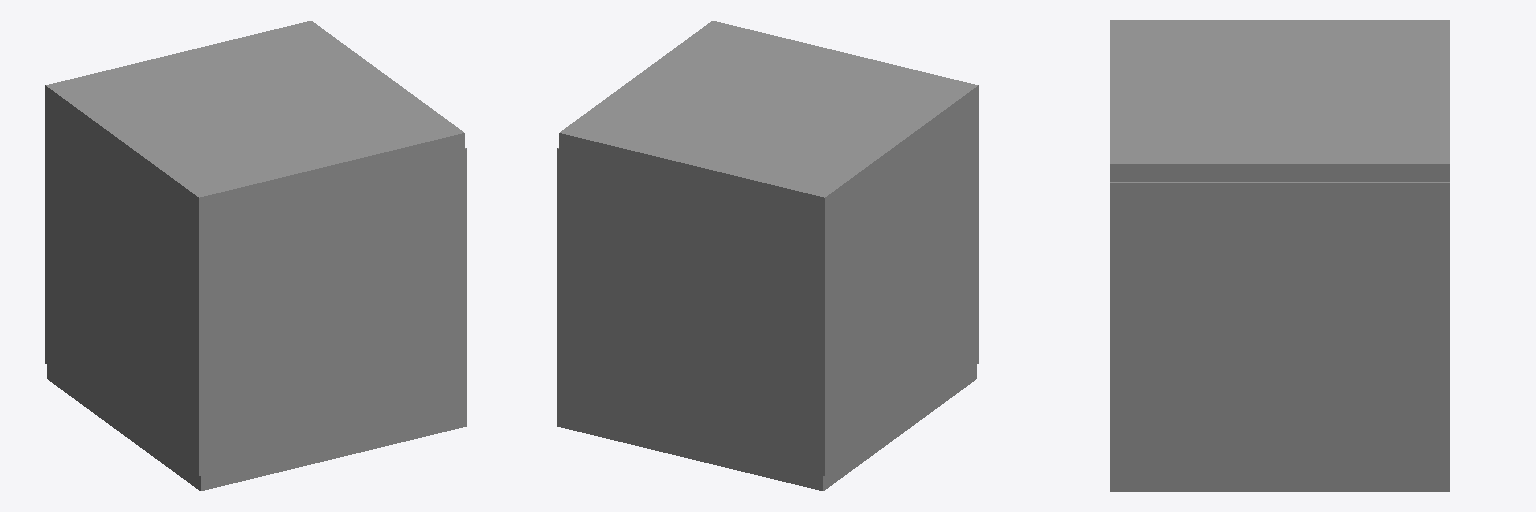
robot.urdf — magician:
<robot name="magician">

    <!-- Defining the colors used in this robot -->
    <material name="Black">
        <color rgba="0 0 0 1"/>
    </material>

    <material name="White">
        <color rgba="1 1 1 1"/>
    </material>

    <material name="Grey">
        <color rgba="0.9 0.9 0.9 1"/>
    </material>

    <!--  -->
    <link name="base_link">
        <visual>
            <origin xyz="0 0 0" rpy="0 0 0"/>
            <geometry>
                <mesh filename="package://magician/meshes/base_link.STL"/>
            </geometry>
            <material name="White"/>
        </visual>
        <collision>
            <origin xyz="0 0 0" rpy="0 0 0"/>
            <geometry>
                <mesh filename="package://magician/meshes/base_link.STL"/>
            </geometry>
        </collision>
    </link>

    <joint name="joint_1" type ="revolute">
        <origin xyz="0 0 0.024" rpy="0 0 0"/>
        <parent link="base_link"/>
        <child link="link_1"/>
        <axis xyz="0 0 1"/>
        <limit effort="150.0" lower="-3.14159265" upper="3.14159265" velocity="3.15"/>
    </joint>

    <link name="link_1">
        <visual>
            <origin xyz="0 0 0" rpy="0 0 0"/>
            <geometry>
                <mesh filename="package://magician/meshes/link_1.dae"/>
            </geometry>
            <!--material name="White"/-->
        </visual>
        <collision>
            <origin xyz="0 0 0" rpy="0 0 0"/>
            <geometry>
                <mesh filename="package://magician/meshes/link_1.STL"/>
            </geometry>
        </collision>
    </link>

    
    <joint name="joint_2" type="revolute">
        <origin xyz="-0.01175 0 0.114" rpy="1.570796325 0 -1.570796325"/>
        <parent link="link_1"/>
        <child link="link_2"/>
        <axis xyz="0 0 1"/>
        <limit effort="150.0" lower="0" upper="1.570796325" velocity="3.15"/>
    </joint>

    <link name="link_2">
        <visual>
            <origin xyz="0 0 0" rpy="0 0 0"/>
            <geometry>
                <mesh filename="package://magician/meshes/link_2.dae"/>
            </geometry>
            <!--material name="Black"/-->
        </visual>
        <collision>
            <origin xyz="0 0 0" rpy="0 0 0"/>
            <geometry>
                <mesh filename="package://magician/meshes/link_2.STL"/>
            </geometry>
        </collision>
    </link>
    
    <!--
    <joint name="joint_3" type ="revolute">
        <origin xyz="0.00475 0.00001 0.114" rpy="1.570796325 0 1.570796325"/>
        <parent link="link_1"/>
        <child link="link_3"/>
        <axis xyz="0 0 1"/>
        <limit effort="150.0" lower="-3.14159265" upper="3.14159265" velocity="3.15"/>
    </joint>
    -->

    <!--
    <link name="link_3">
        <visual>
            <origin xyz="0 0 0" rpy="0 0 0"/>
            <geometry>
                <mesh filename="package://magician/meshes/link_3.STL"/>
            </geometry>
        </visual>
        <collision>
            <origin xyz="0 0 0" rpy="0 0 0"/>
            <geometry>
                <mesh filename="package://magician/meshes/link_3.STL"/>
            </geometry>
        </collision>
    </link>
    -->
    
    <!--
    <joint name="joint_4" type ="revolute">
        <origin xyz="0.0013 0.042980 0.00275" rpy="0 -1.570796325 0"/>
        <parent link="link_3"/>
        <child link="link_4"/>
        <axis xyz="1 0 0"/>
        <limit effort="150.0" lower="-3.14159265" upper="3.14159265" velocity="3.15"/>
    </joint>
    -->

    <!--
    <link name="link_4">
        <visual>
            <origin xyz="0 0 0" rpy="0 0 0"/>
            <geometry>
                <mesh filename="package://magician/meshes/link_4.STL"/>
            </geometry>
        </visual>
        <collision>
            <origin xyz="0 0 0" rpy="0 0 0"/>
            <geometry>
                <mesh filename="package://magician/meshes/link_4.STL"/>
            </geometry>
        </collision>
    </link>
    -->

    <joint name="joint_5" type ="revolute">
        <origin xyz="0.02699 0.13228 -0.01175" rpy="0 3.14159265 0"/>
        <parent link="link_2"/>
        <child link="link_5"/>
        <axis xyz="0 0 1"/>
        <limit effort="150.0" lower="0" upper="1.570796325" velocity="3.15"/>
    </joint>

    <link name="link_5">
        <visual>
            <origin xyz="0 0 0" rpy="0 0 0"/>
            <geometry>
                <mesh filename="package://magician/meshes/link_5.dae"/>
            </geometry>
            <!-- material name="White"/-->
        </visual>
        <collision>
            <origin xyz="0 0 0" rpy="0 0 0"/>
            <geometry>
                <mesh filename="package://magician/meshes/link_5.dae"/>
            </geometry>
        </collision>
    </link>

    <joint name="joint_6" type ="revolute">
        <origin xyz="0.07431 -0.12684 0.0" rpy="0 3.14159265 0"/>
        <parent link="link_5"/>
        <child link="link_6"/>
        <axis xyz="0 0 1"/>
        <limit effort="150.0" lower="-3.14159265" upper="3.14159265" velocity="3.15"/>

    </joint>

    <link name="link_6">
        <visual>
            <origin xyz="0 0 0" rpy="0 0 0"/>
            <geometry>
                <mesh filename="package://magician/meshes/link_6.STL"/>
            </geometry>
            <material name="Grey"/>
        </visual>
        <collision>
            <origin xyz="0 0 0" rpy="0 0 0"/>
            <geometry>
                <mesh filename="package://magician/meshes/link_6.STL"/>
            </geometry>
        </collision>
    </link>

    <!--dummy joint-->
    <joint name="joint_7" type ="revolute">
        <origin xyz="-0.0328 0.02871 0" rpy="0 3.14159265 0"/>
        <parent link="link_6"/>
        <child link="link_7"/>
        <axis xyz="0 0 1"/>
        <limit effort="150.0" lower="-3.14159265" upper="3.14159265" velocity="3.15"/>
        
    </joint>

    <link name="link_7">
        <visual>
            <origin xyz="0 0 0" rpy="0 0 0"/>
            <geometry>
                <mesh filename="package://magician/meshes/link_7.STL"/>
            </geometry>
            <material name="Black"/>
        </visual>
        <collision>
            <origin xyz="0 0 0" rpy="0 0 0"/>
            <geometry>
                <mesh filename="package://magician/meshes/link_7.STL"/>
            </geometry>
        </collision>
    </link>
    
    <!-- Gazebo plugin for ROS control-->
    <gazebo>
        <plugin name="gazebo_ros_control" filename="libgazebo_ros_control.so">
        <robotNamespace>/</robotNamespace>
        </plugin>
    </gazebo>
    
</robot>  

--- Render facts (derived) ---
3 views of the same robot in one strip: view 1: azimuth 30°, elevation 25°; view 2: azimuth 150°, elevation 25°; view 3: azimuth 270°, elevation 25° (orthographic).
Model magician with 6 links and 5 joints (5 revolute), rooted at base_link, posed all joints at 0.
Visible links, largest first — view 1: link_2, link_1; view 2: link_2, link_1; view 3: link_1, link_2.
Link boxes in pixels (x1,y1,x2,y2): link_2: (45, 21, 464, 475); link_1: (47, 148, 466, 490); link_2: (559, 21, 978, 475); link_1: (557, 148, 976, 490); link_1: (1110, 182, 1449, 491); link_2: (1110, 20, 1449, 181).
Bounding box of the posed robot: 2.01 × 2 × 2.11 m (x, y, z).
2 mesh visuals loaded from 6 distinct referenced files (2 Collada DAE); not drawn: 4 (reference not matched to a file when rendering).